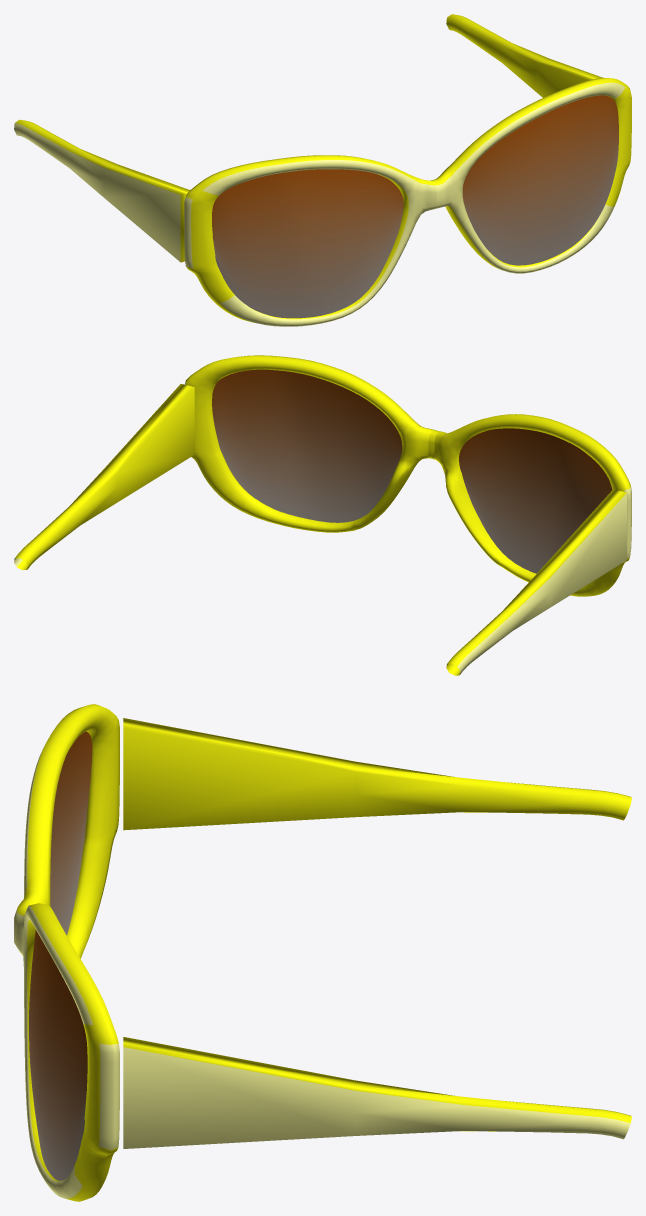
Rendered from yellowglasses2.obj.
3 views of the same model, one above another, from view 1: azimuth 30°, elevation 25°; view 2: azimuth 150°, elevation 25°; view 3: azimuth 270°, elevation 25° (orthographic). The views are drawn at different scales.
Bounding box in the file's own units: 38.98 × 13.99 × 30.92.
Materials: 4 (1 with a texture image).
